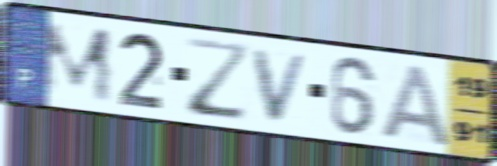2: (118, 30, 165, 112)
6: (328, 54, 379, 138)
A: (378, 61, 453, 149)
M: (41, 21, 115, 105)
V: (250, 47, 314, 126)
Z: (184, 35, 252, 125)
